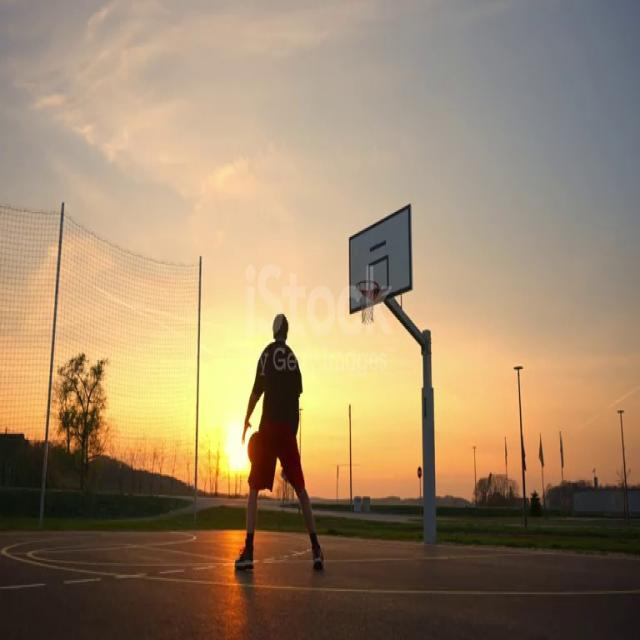ball: (246, 431, 267, 470)
